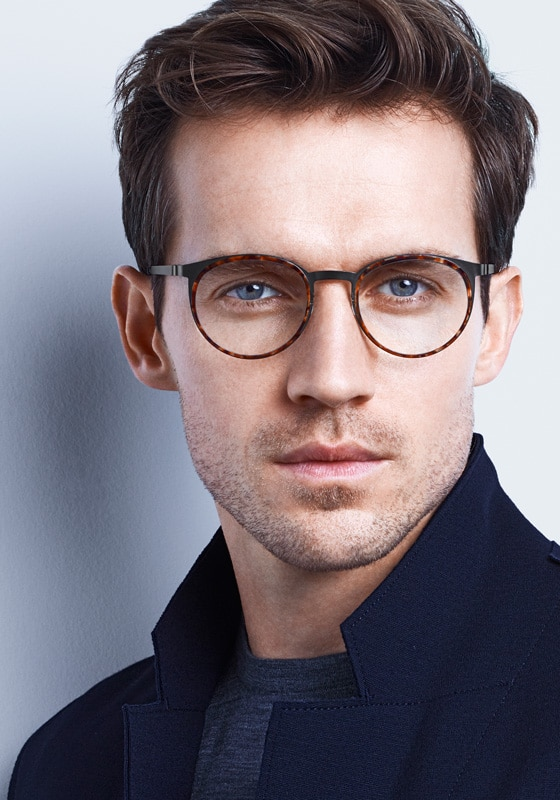llen: (357, 259, 469, 356)
rlen: (194, 259, 308, 356)
